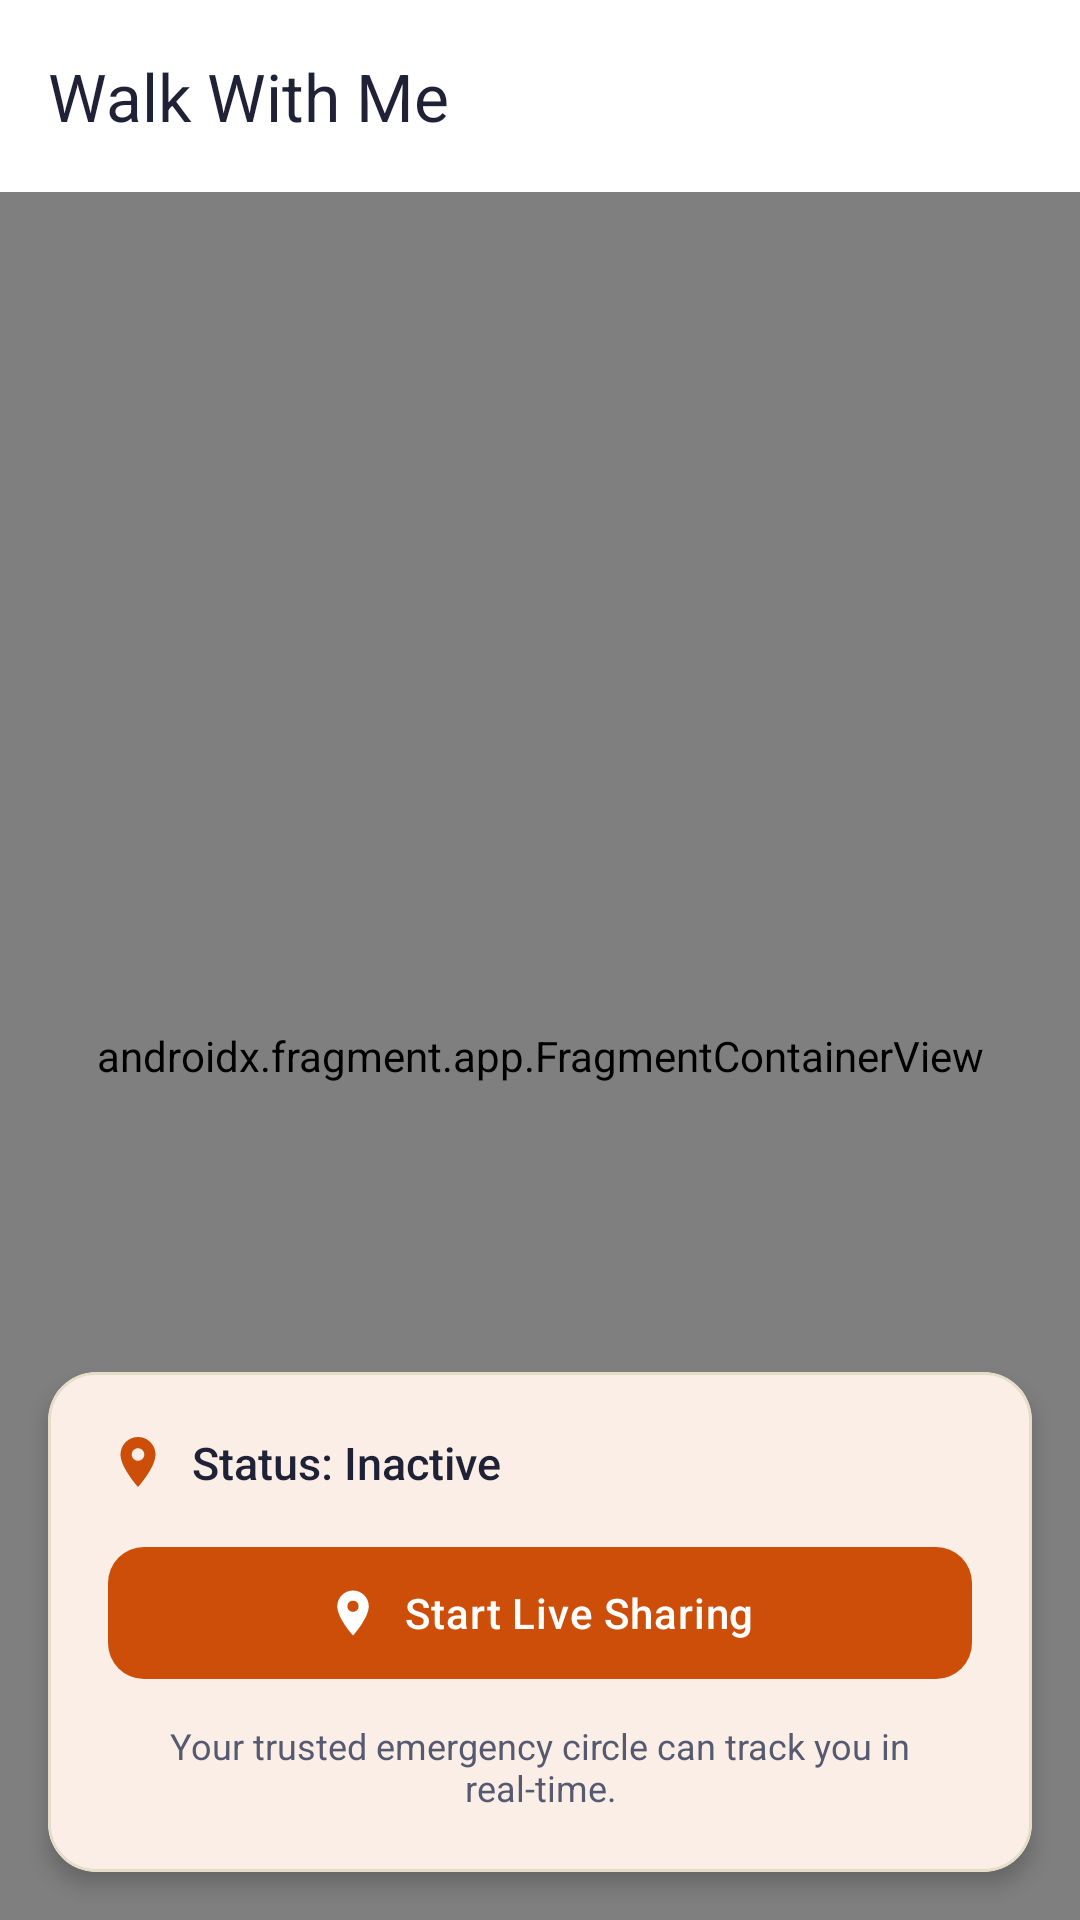

Named icons in this screenshot (1080 x 1920) and their centers, (x=x, y=y):
location pin: (x=138, y=1462)
